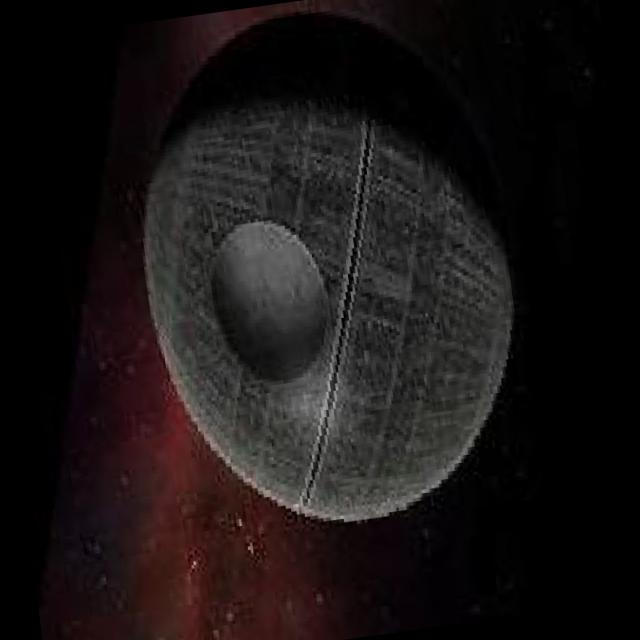Death Star: (115, 52, 549, 556)
